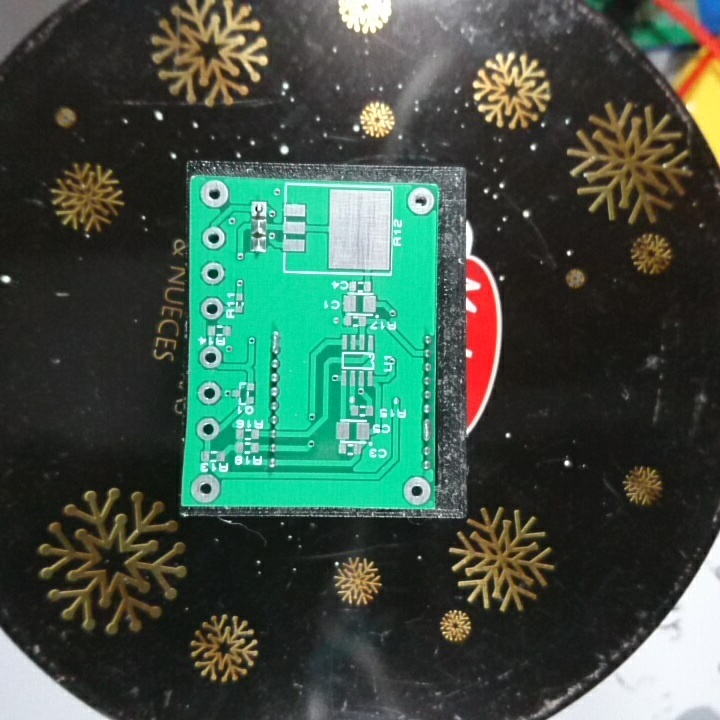F: (198, 178, 232, 213), (189, 471, 222, 506), (405, 183, 436, 218), (401, 475, 434, 506), (199, 259, 227, 288), (196, 378, 221, 410), (199, 224, 227, 252), (194, 417, 221, 445), (197, 344, 222, 374), (197, 296, 225, 321), (247, 198, 270, 220)
P: (267, 327, 282, 357), (419, 416, 434, 445)
